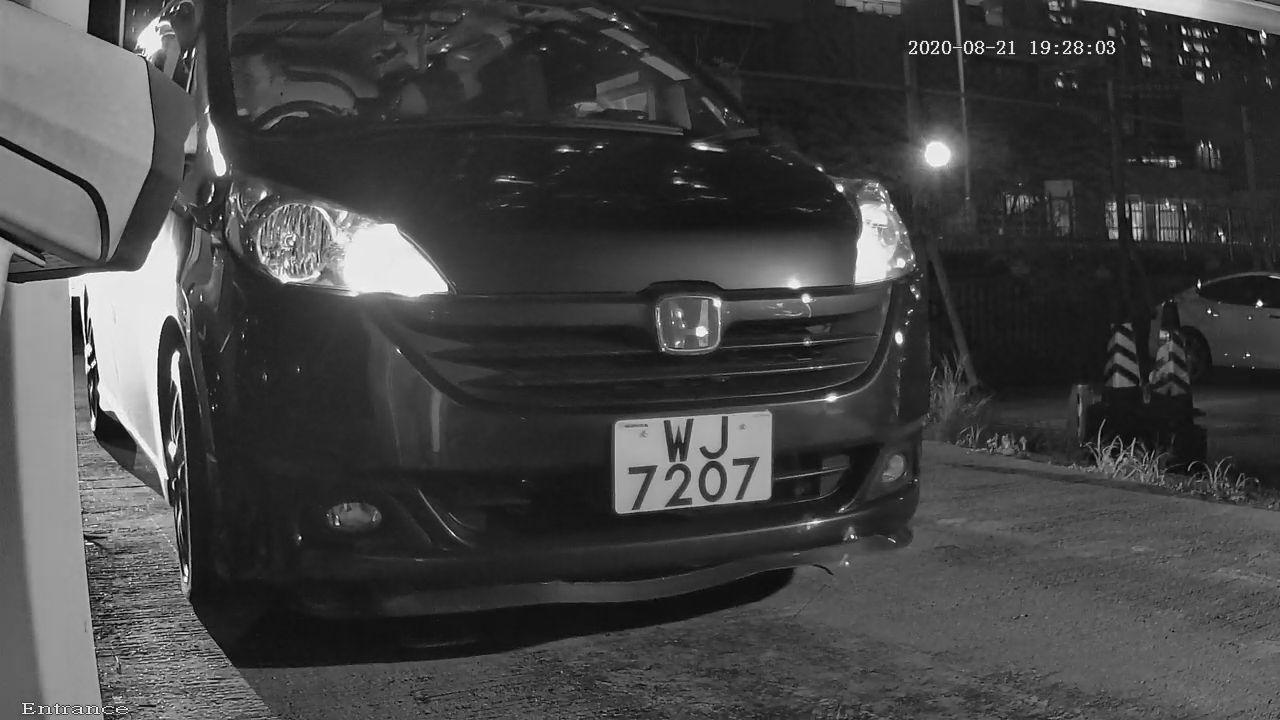Car: (6, 1, 1001, 698)
License Plate: (595, 399, 789, 528)
